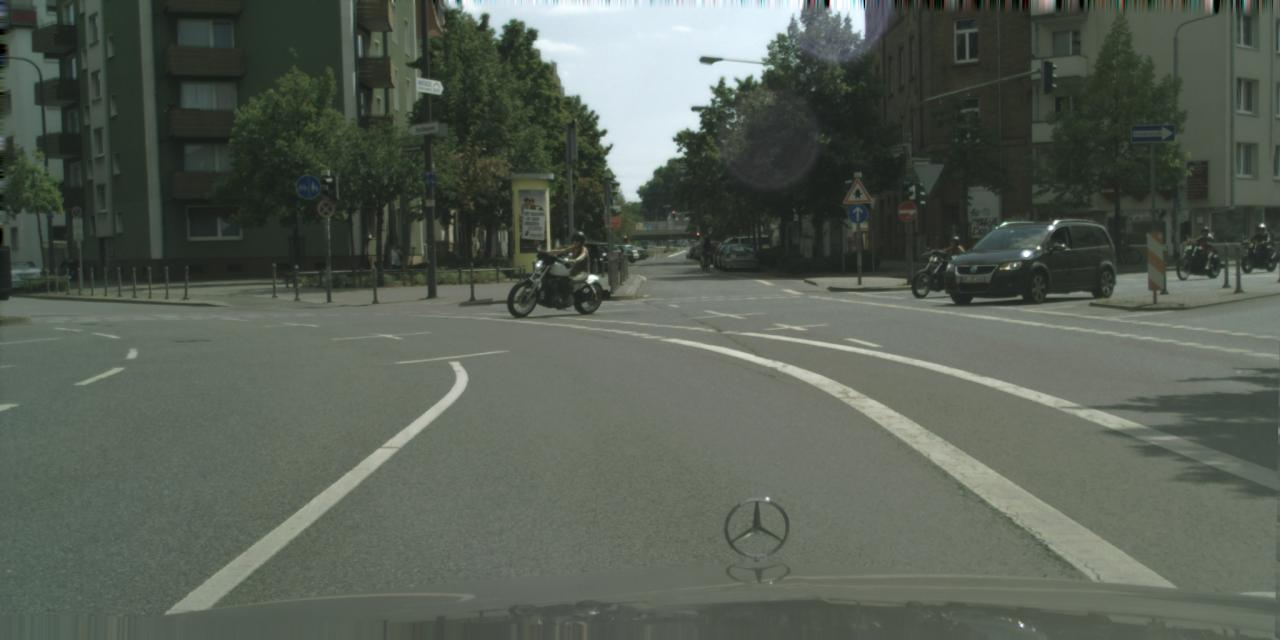ped: (555, 232, 586, 308), (943, 236, 962, 282), (1196, 226, 1214, 270), (1253, 223, 1269, 263), (389, 245, 403, 282), (700, 237, 711, 264)
